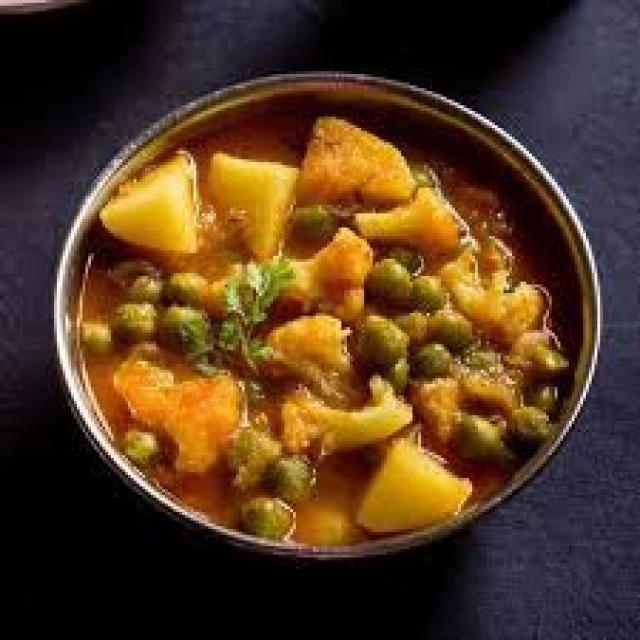Aloo Matar: (103, 122, 536, 524)
